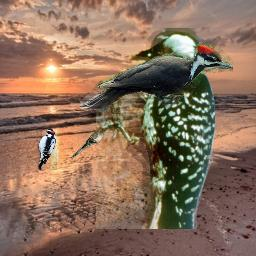Cuckoo: (70, 127, 108, 159)
Woodpecker: (96, 28, 215, 229), (80, 44, 233, 109), (36, 129, 57, 170)
